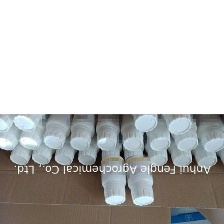insecticide: (157, 80, 195, 136), (168, 95, 200, 154), (126, 83, 163, 134), (123, 153, 157, 207), (185, 118, 220, 170), (193, 97, 224, 154), (15, 98, 48, 151), (142, 96, 173, 152), (119, 96, 149, 152), (28, 117, 62, 166), (68, 98, 99, 151), (6, 120, 40, 167), (99, 152, 128, 207), (42, 97, 72, 150), (92, 98, 122, 151), (163, 125, 195, 171), (0, 100, 27, 154), (139, 122, 170, 168), (52, 121, 79, 168), (13, 95, 45, 131), (76, 124, 100, 166), (0, 89, 18, 136)
